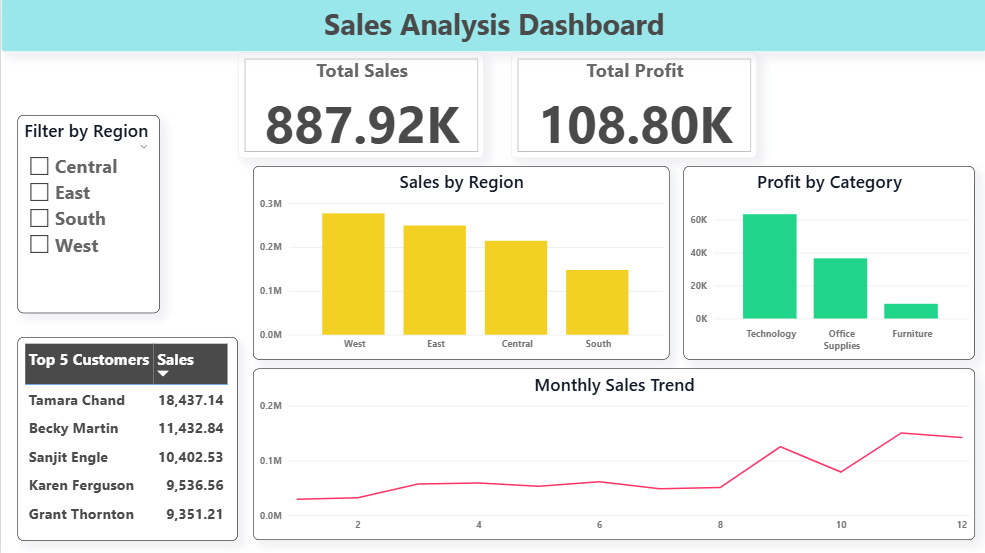

The page's visual inventory and layout, read from the dashboard file:
{"tool":"powerbi","page":{"name":"Page 1","canvas":[1280,720],"ordinal":0},"visuals":[{"type":"cardVisual","fields":{"Data":["Sum(cleaned_sales_data_final.Sales)"]},"box":[308,69.9,319.4,138],"z":0},{"type":"cardVisual","fields":{"Data":["Sum(cleaned_sales_data_final.Profit)"]},"box":[661.4,69.9,319.4,138],"z":1000},{"type":"clusteredColumnChart","fields":{"Category":["cleaned_sales_data_final.Region"],"Y":["Sum(cleaned_sales_data_final.Sales)"]},"box":[326.9,217.3,540.5,251.3],"z":2000},{"type":"clusteredColumnChart","fields":{"Category":["cleaned_sales_data_final.Category"],"Y":["Sum(cleaned_sales_data_final.Profit)"]},"box":[886.3,217.3,378,251.3],"z":3000},{"type":"lineChart","title":"Monthly Sales Trend","fields":{"Category":["cleaned_sales_data_final.Month","cleaned_sales_data_final.Year"],"Y":["Sum(cleaned_sales_data_final.Sales)"]},"box":[326.9,481.9,937.3,223],"z":4000},{"type":"tableEx","fields":{"Values":["cleaned_sales_data_final.Customer Name","Sum(cleaned_sales_data_final.Sales)"]},"box":[21.4,440.1,286.2,264.8],"z":5000},{"type":"slicer","title":"Filter by Region","fields":{"Values":["cleaned_sales_data_final.Region"]},"box":[21.4,151.9,185,257],"z":6000},{"type":"textbox","box":[0,0,1279.4,69.9],"z":7000}]}

Visuals, with their boxes in screenshot pixels (x1, y1, x2, y2), scaled from the page's 1280x720 canvas onto the 985x553 screenshot:
cardVisual - Sum(cleaned_sales_data_final.Sales): select_region(237, 54, 483, 160)
cardVisual - Sum(cleaned_sales_data_final.Profit): select_region(509, 54, 755, 160)
clusteredColumnChart - cleaned_sales_data_final.Region x Sum(cleaned_sales_data_final.Sales): select_region(252, 167, 667, 360)
clusteredColumnChart - cleaned_sales_data_final.Category x Sum(cleaned_sales_data_final.Profit): select_region(682, 167, 973, 360)
"Monthly Sales Trend" lineChart: select_region(252, 370, 973, 541)
tableEx - cleaned_sales_data_final.Customer Name x Sum(cleaned_sales_data_final.Sales): select_region(16, 338, 237, 541)
"Filter by Region" slicer: select_region(16, 117, 159, 314)
textbox: select_region(0, 0, 984, 54)
